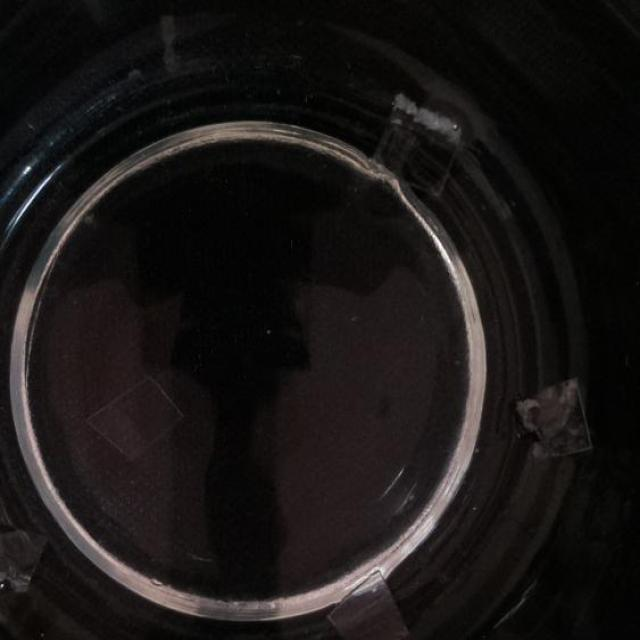fiber: (369, 92, 464, 196), (82, 372, 180, 462), (514, 378, 592, 462), (325, 573, 410, 640), (2, 518, 50, 596)
